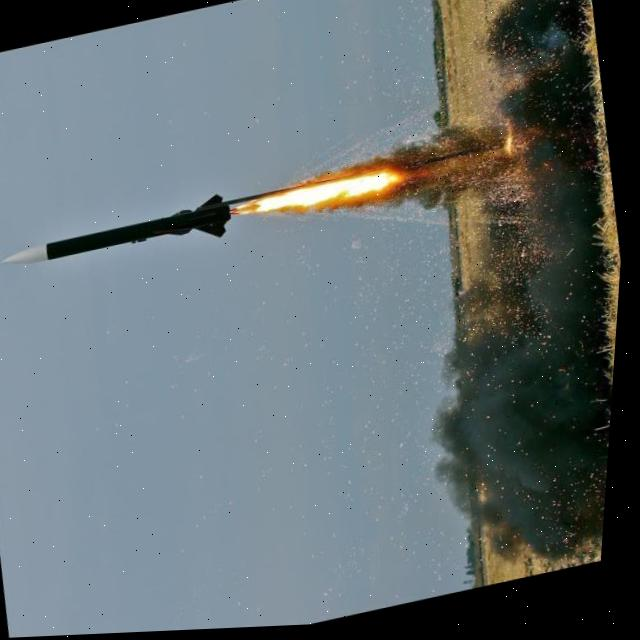missile: (0, 191, 240, 296)
